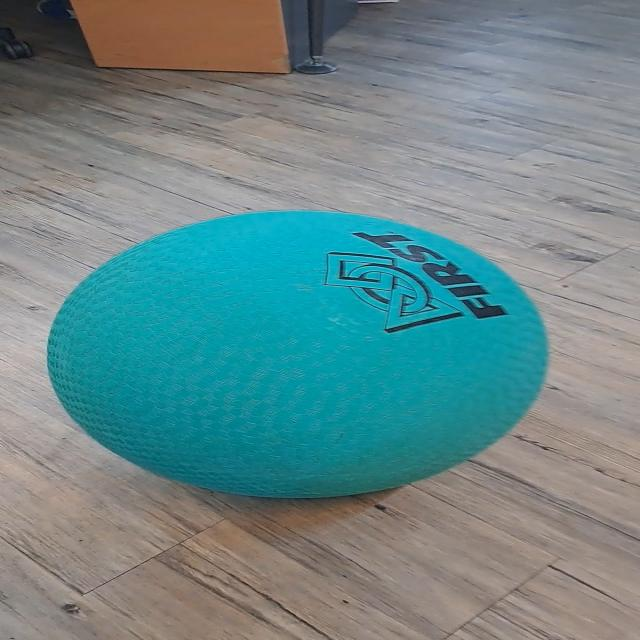ALGAE: (44, 208, 550, 500)
